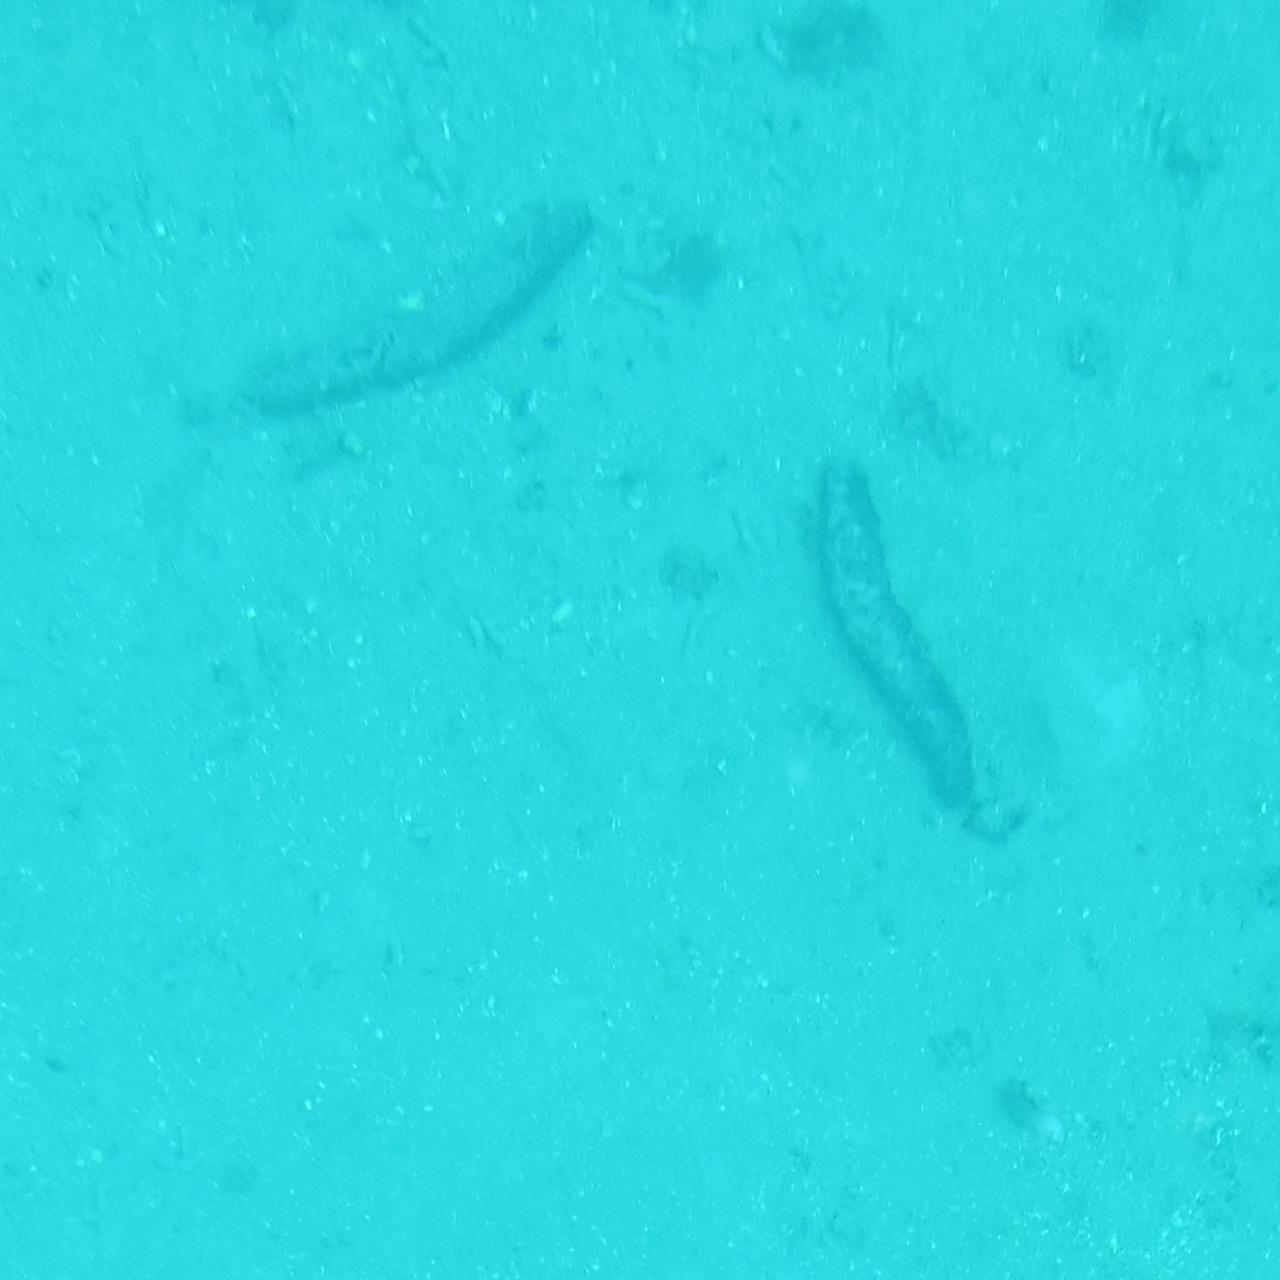Holothuria tubulosa: (204, 195, 591, 427), (785, 454, 983, 840)
